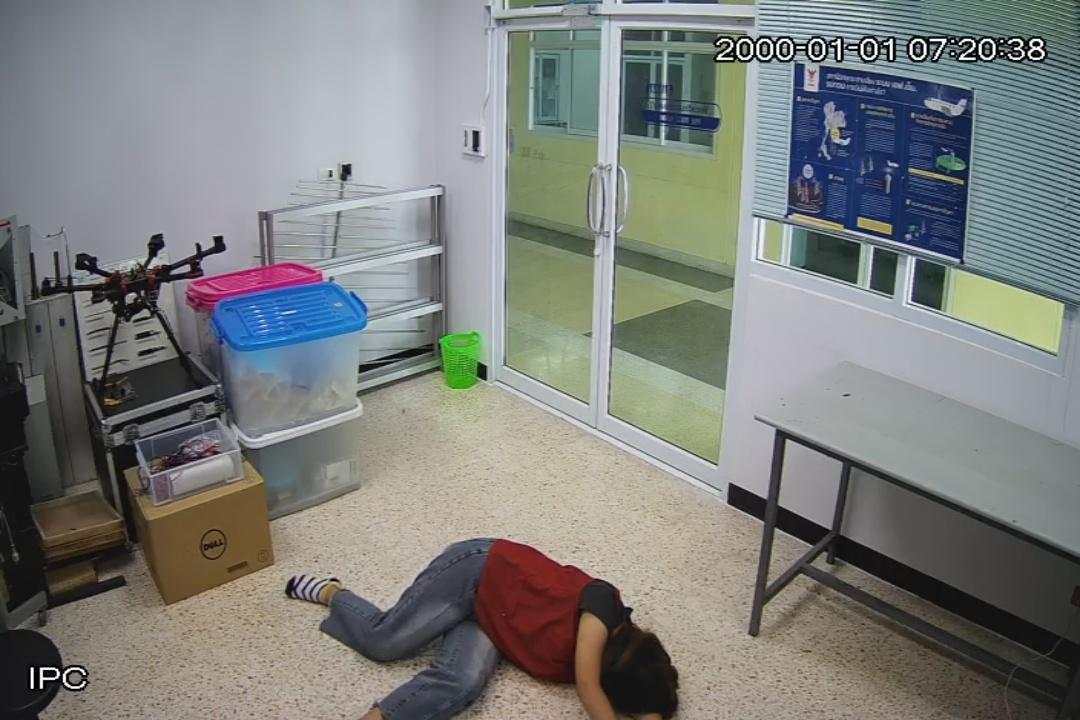fall: (267, 536, 700, 720)
